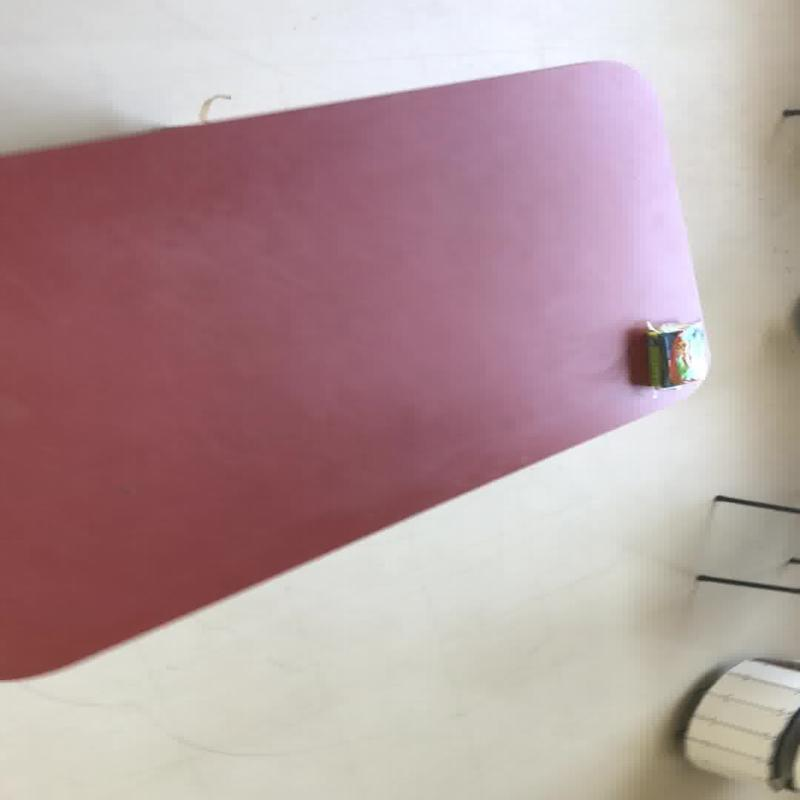sponge: (680, 656, 797, 792), (642, 317, 709, 389)
